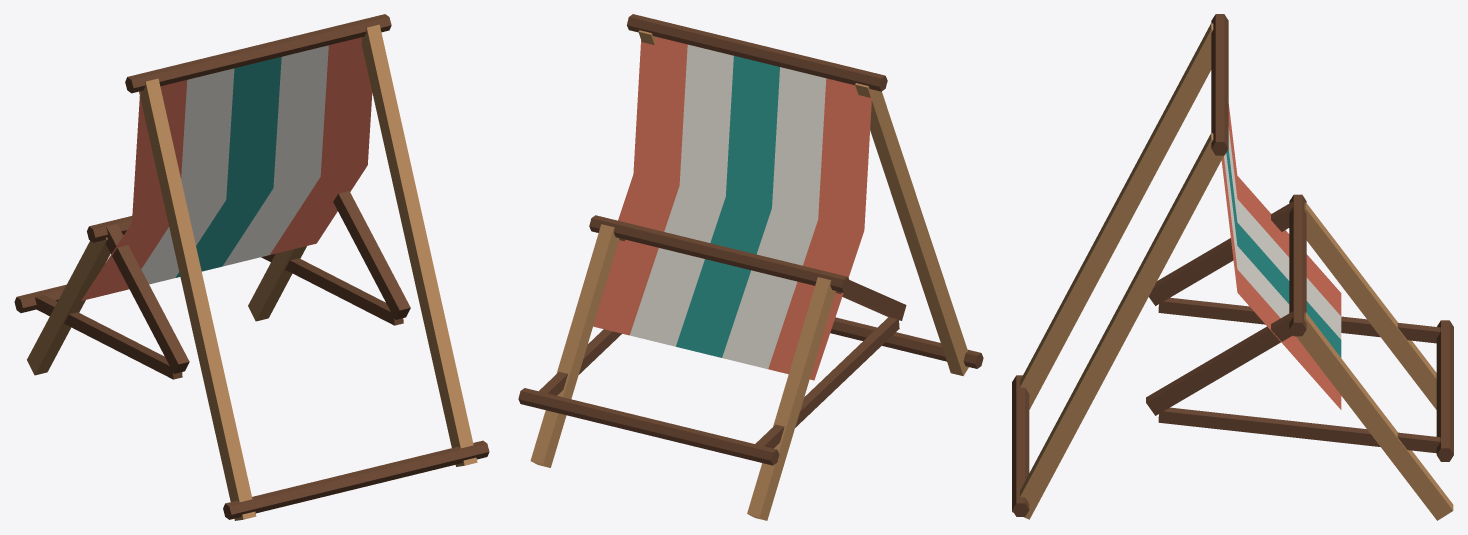
The model's file is deck_chair.glb.
The picture shows the model from 3 angles, left to right: view 1: azimuth 30°, elevation 25°; view 2: azimuth 150°, elevation 25°; view 3: azimuth 270°, elevation 25°; orthographic projection. The views are drawn at different scales.
Visible parts, largest first — view 1: Body; view 2: Body; view 3: Body.
Boxes of the visible parts, left/top/right/bottom form: Body: left=14, top=14, right=489, bottom=520; Body: left=518, top=14, right=983, bottom=520; Body: left=1012, top=14, right=1453, bottom=520.
Bounding box in the file's own units: 0.7 × 0.9801 × 1.02.
